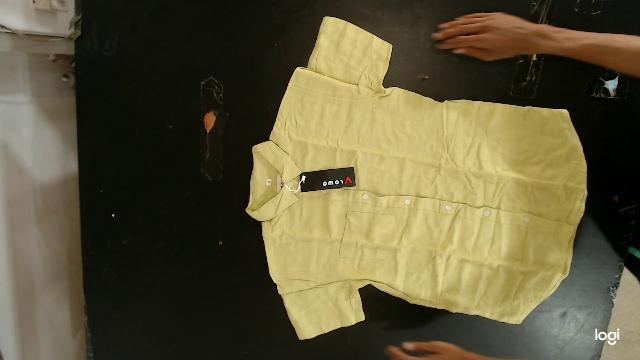new-garment: (246, 17, 587, 339)
